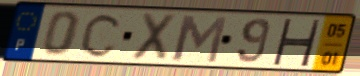0: (40, 8, 82, 58)
9: (234, 17, 272, 66)
C: (78, 12, 125, 60)
H: (270, 17, 323, 68)
M: (170, 13, 230, 65)
X: (128, 11, 180, 64)
